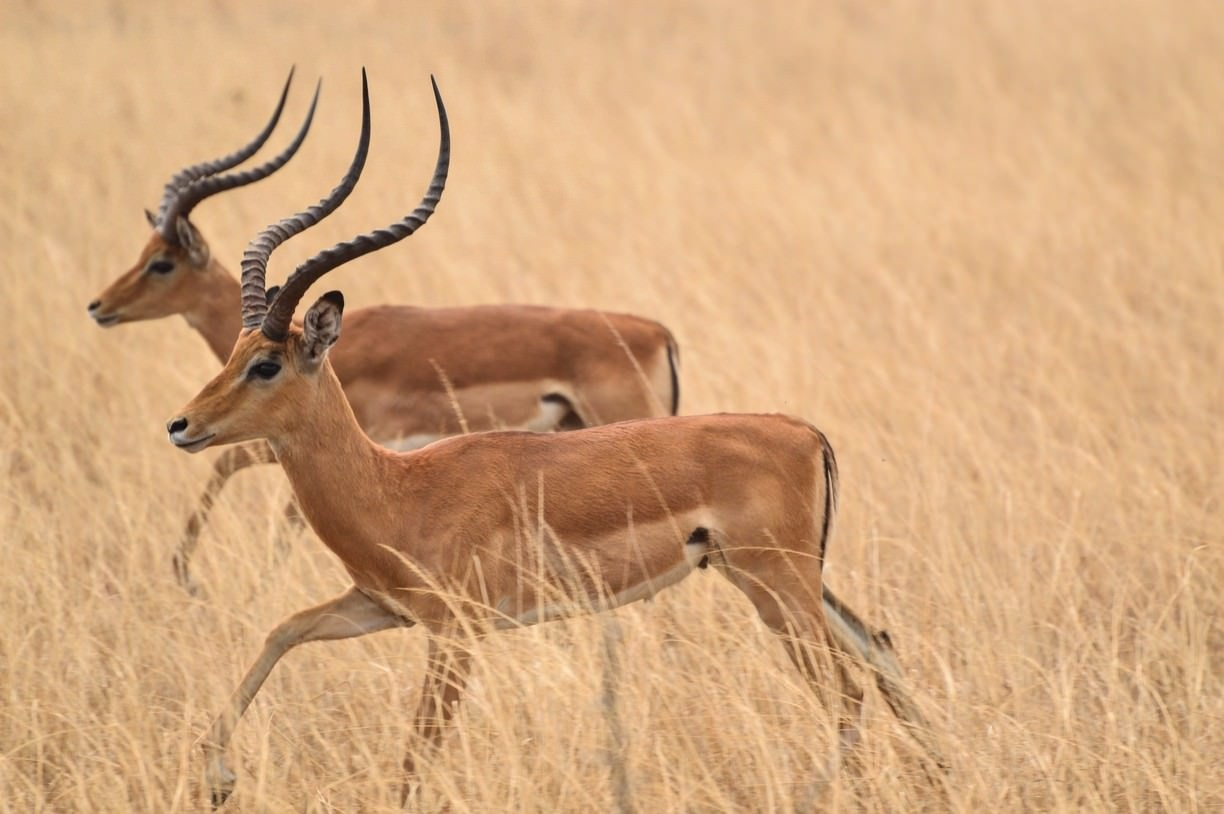impala: (159, 61, 976, 808), (78, 59, 702, 598)
